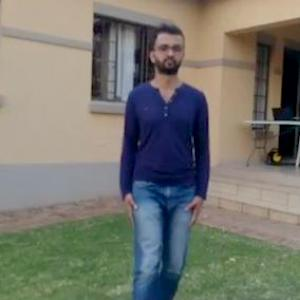follow: (118, 13, 212, 282)
